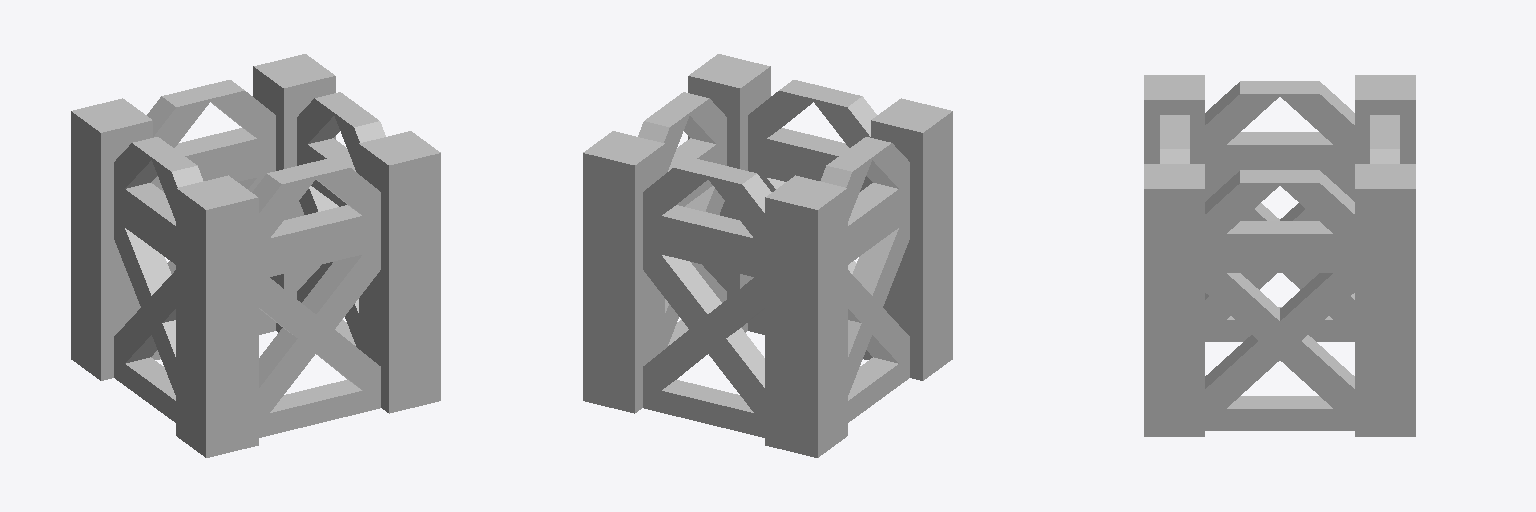
The model's file is Tower_Block.obj.
The picture shows the model from 3 angles: view 1: azimuth 30°, elevation 25°; view 2: azimuth 150°, elevation 25°; view 3: azimuth 270°, elevation 25°; orthographic projection.
Visible parts, largest first — view 1: default; view 2: default; view 3: default.
Part boxes in pixels (x1,y1,x2,y2): default: (71, 54, 440, 457); default: (583, 54, 952, 457); default: (1144, 75, 1415, 436).
Size of the model in its own units: 0.99 by 1 by 0.99.